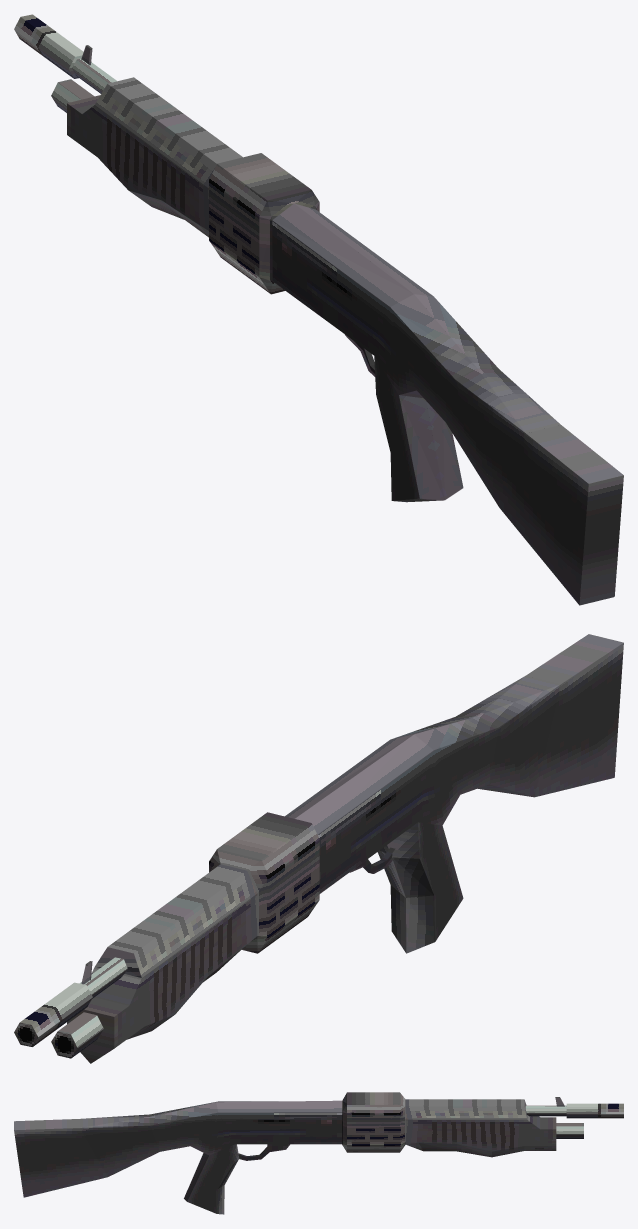
File: recovered_gun_spas12.glb
3 renders of one model, top to bottom at view 1: azimuth 30°, elevation 25°; view 2: azimuth 150°, elevation 25°; view 3: azimuth 270°, elevation 25°, orthographic. The views are drawn at different scales.
Parts seen in each view (by area): view 1: Gun_6c98ae12a1ae; view 2: Gun_6c98ae12a1ae; view 3: Gun_6c98ae12a1ae.
Part boxes in pixels (bbox=[...]): Gun_6c98ae12a1ae: bbox=[14, 14, 623, 605]; Gun_6c98ae12a1ae: bbox=[14, 634, 623, 1063]; Gun_6c98ae12a1ae: bbox=[14, 1092, 623, 1214].
Size of the model in its own units: 0.0585 by 0.2061 by 0.9713.
1 material, 1 textured.
